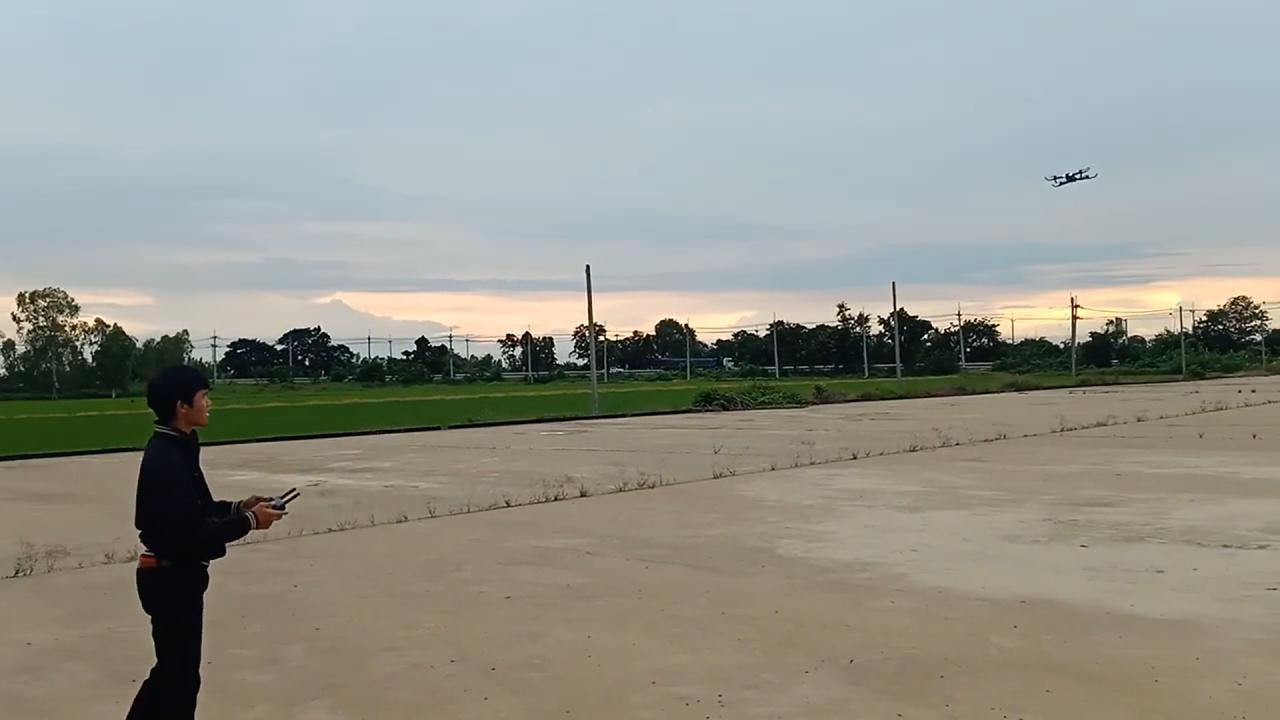Drone: (1032, 158, 1105, 200)
